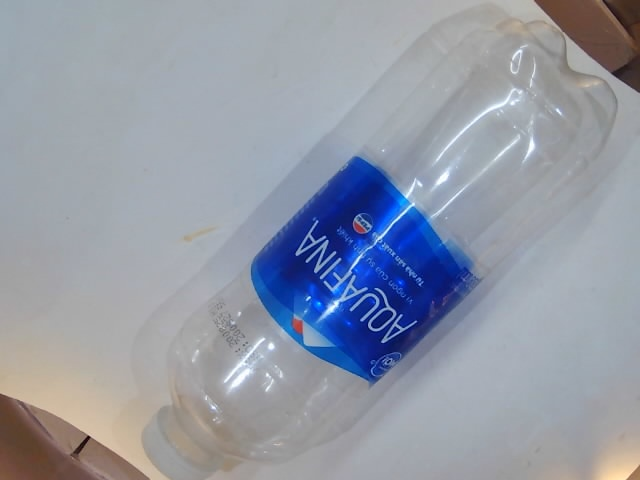plastic: (136, 12, 623, 477)
